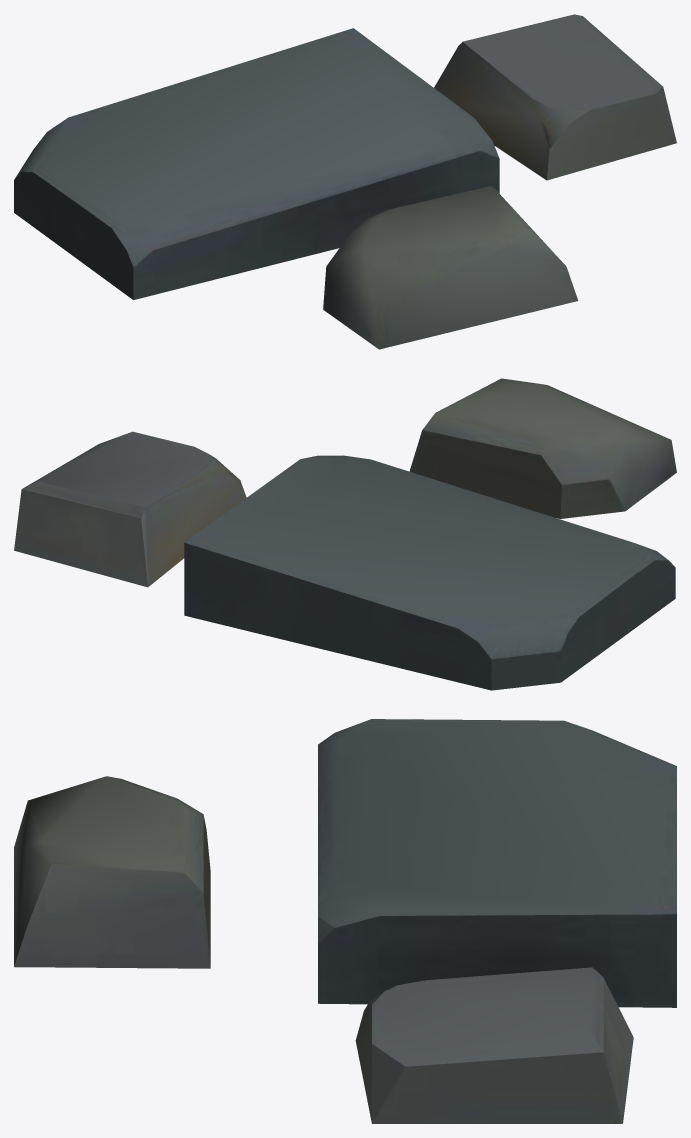
The model's file is OBJ_SmallRock_02.obj.
3 renders of one model, top to bottom at view 1: azimuth 30°, elevation 25°; view 2: azimuth 150°, elevation 25°; view 3: azimuth 270°, elevation 25°, orthographic. The views are drawn at different scales.
Parts seen in each view (by area): view 1: OBJ_SmallRock_02; view 2: OBJ_SmallRock_02; view 3: OBJ_SmallRock_02.
Boxes of the visible parts, bbox=[...] form: OBJ_SmallRock_02: bbox=[14, 14, 676, 349]; OBJ_SmallRock_02: bbox=[14, 378, 676, 690]; OBJ_SmallRock_02: bbox=[14, 719, 676, 1123].
Size of the model in its own units: 1.51 by 0.2034 by 1.24.
Materials: 1 (1 with a texture image).
